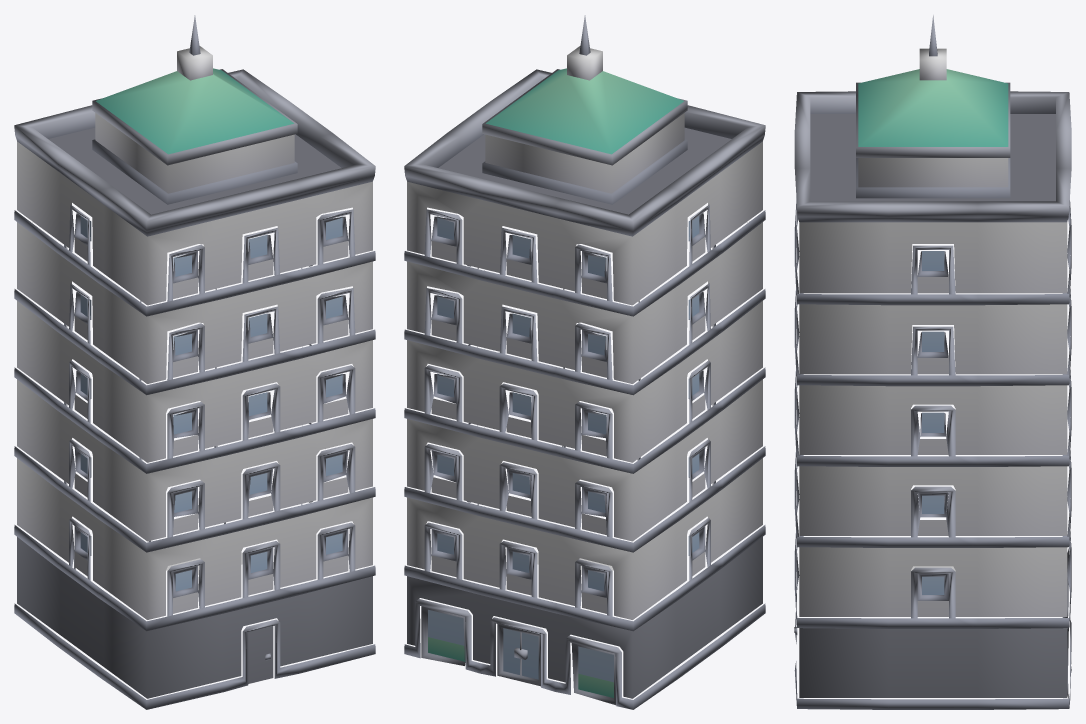
3 views of the same model, side by side, from view 1: azimuth 30°, elevation 25°; view 2: azimuth 150°, elevation 25°; view 3: azimuth 270°, elevation 25° (orthographic). The views are drawn at different scales.
Size of the model in its own units: 9.92 by 25.2 by 9.94.
